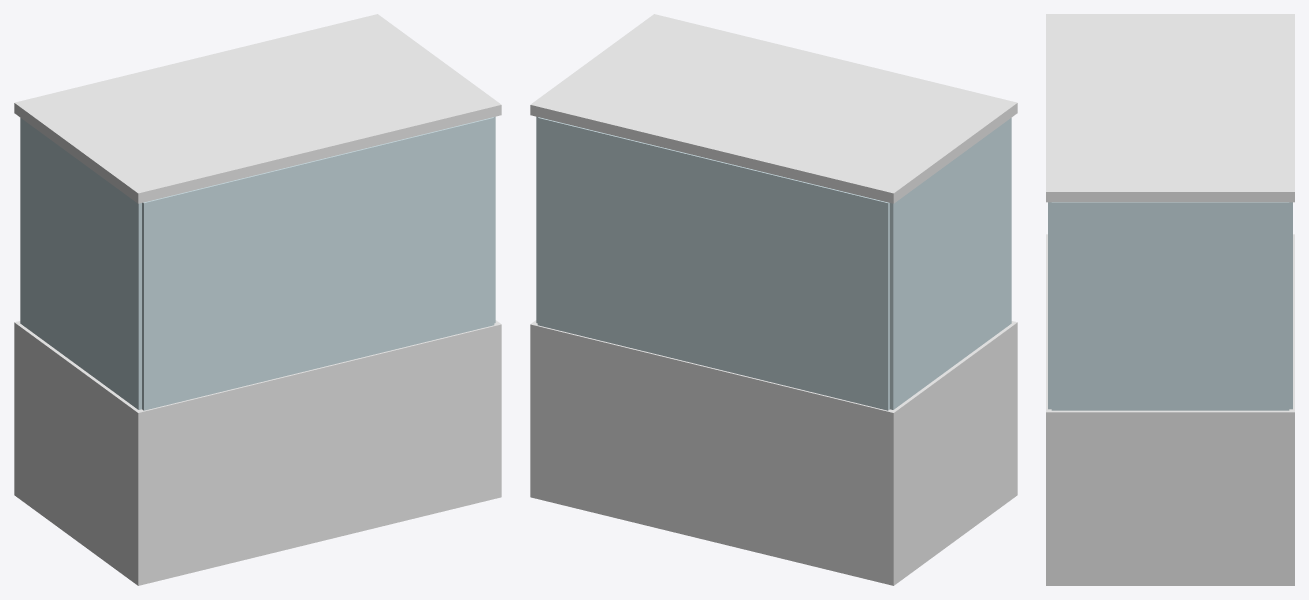
The model's file is cake_showcase.glb.
3 renders of one model, left to right at view 1: azimuth 30°, elevation 25°; view 2: azimuth 150°, elevation 25°; view 3: azimuth 270°, elevation 25°, orthographic.
Parts seen in each view (by area): view 1: glass, base, top; view 2: glass, base, top; view 3: glass, top, base.
Part boxes in pixels (x1=…): glass: x1=20, y1=116, x2=495, y2=410; base: x1=14, y1=320, x2=501, y2=585; top: x1=14, y1=14, x2=501, y2=203; glass: x1=536, y1=116, x2=1011, y2=410; base: x1=530, y1=320, x2=1017, y2=585; top: x1=530, y1=14, x2=1017, y2=203; glass: x1=1048, y1=202, x2=1292, y2=410; top: x1=1046, y1=14, x2=1294, y2=202; base: x1=1046, y1=234, x2=1294, y2=585.
Bounding box in the file's own units: 1.1 × 1.13 × 0.65.
